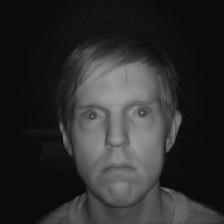sad: (42, 48, 186, 208)
